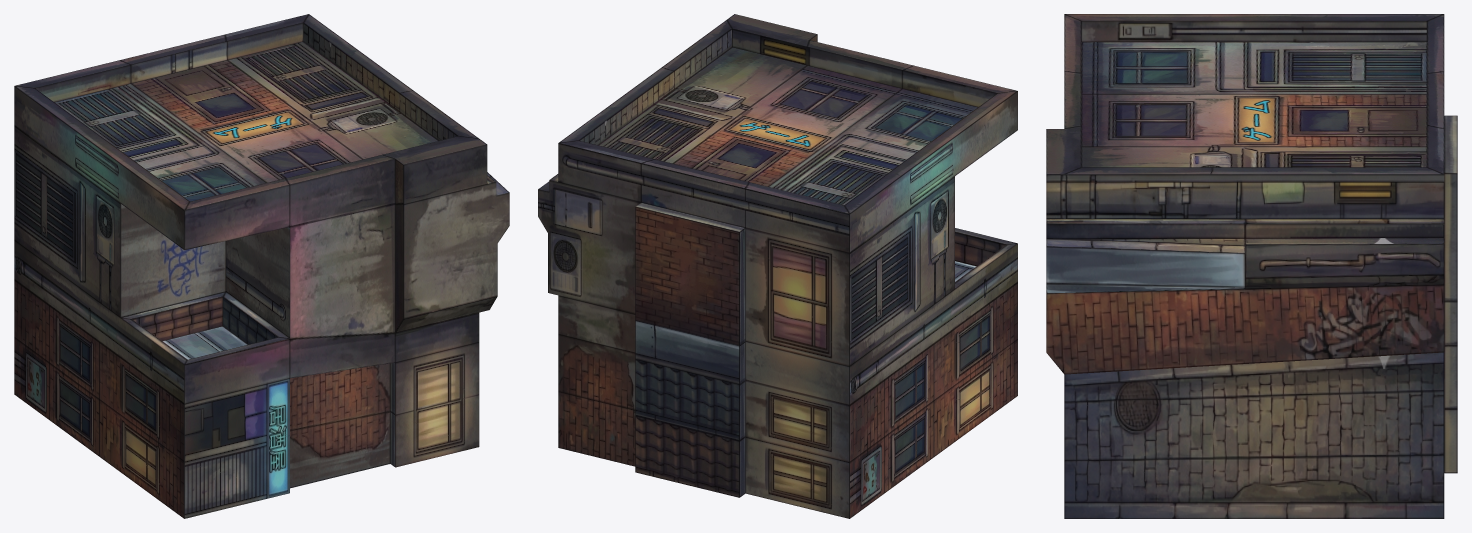
File: building.glb
3 renders of one model, left to right at view 1: azimuth 30°, elevation 25°; view 2: azimuth 150°, elevation 25°; view 3: azimuth 270°, elevation 25°, orthographic. The views are drawn at different scales.
Parts seen in each view (by area): view 1: Cube; view 2: Cube; view 3: Cube.
Boxes of the visible parts, <box> form: Cube: <box>14,14,509,518</box>; Cube: <box>538,14,1017,518</box>; Cube: <box>1046,14,1457,518</box>.
Size of the model in its own units: 9.89 by 8.8 by 9.53.
Materials: 1 (1 with a texture image).
